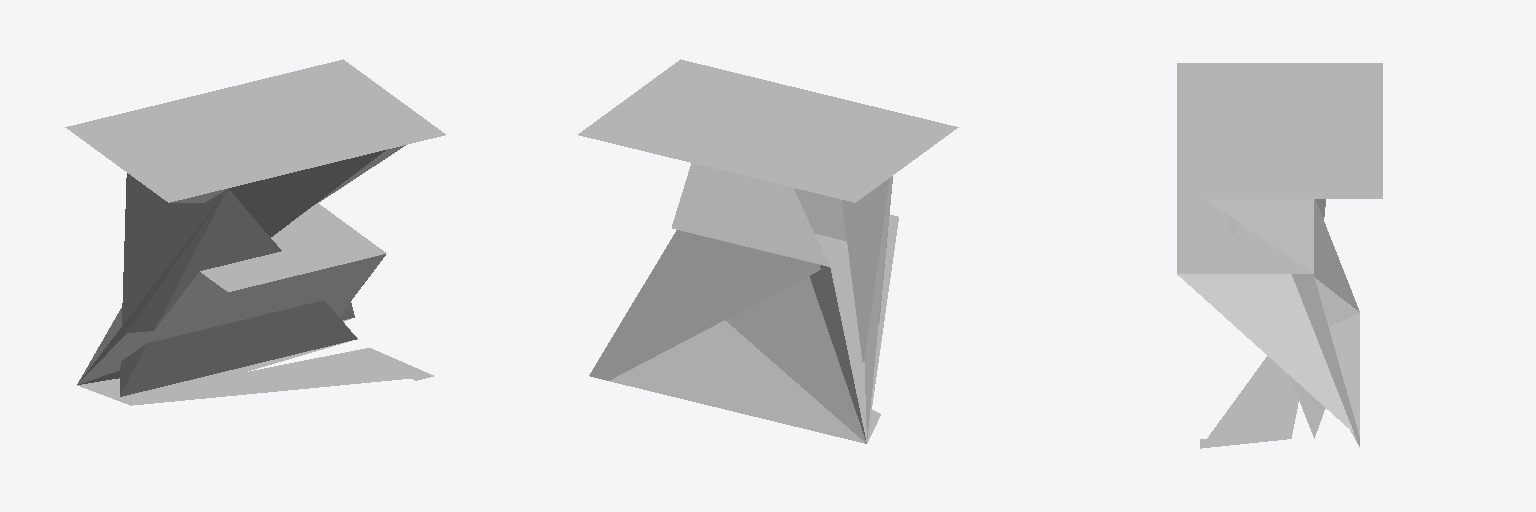
Rendered from Main Hall Way Green Chair.obj.
The picture shows the model from 3 angles: view 1: azimuth 30°, elevation 25°; view 2: azimuth 150°, elevation 25°; view 3: azimuth 270°, elevation 25°; orthographic projection.
Bounding box in the file's own units: 14 × 12 × 9.